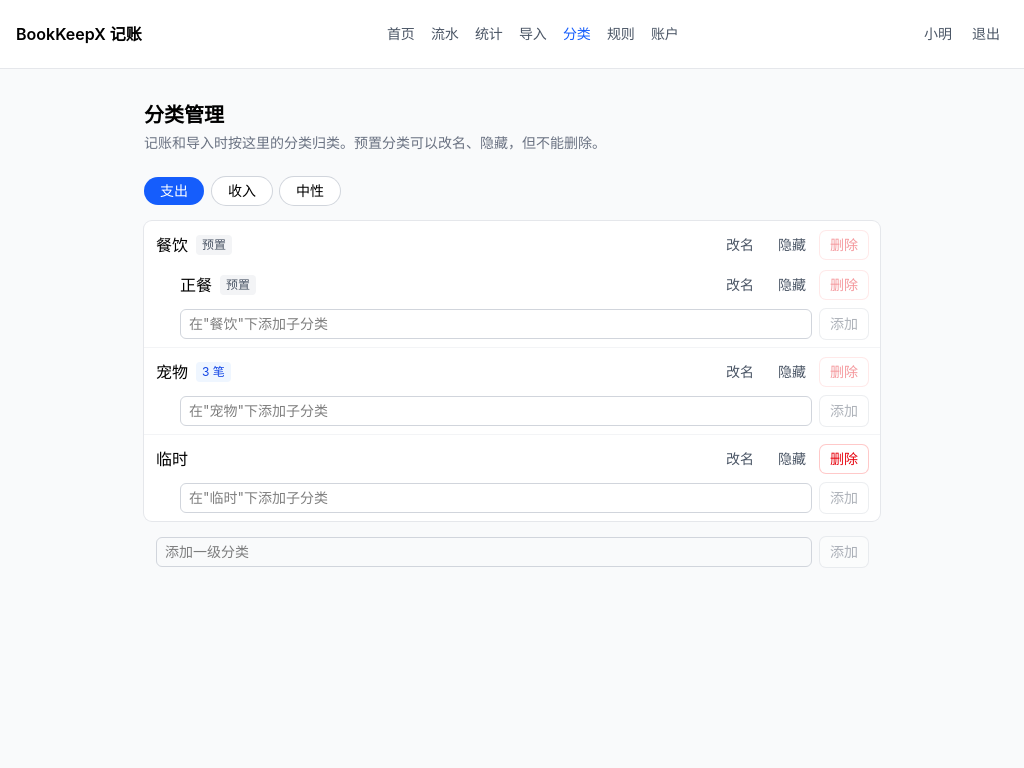
分类管理页 › 反向：改名时重名 → 显示服务端提示，并保持编辑状态（不丢失输入）
Click the button "改名" in the row of "临时" at coordinates (740, 459), box [716,445,764,473]
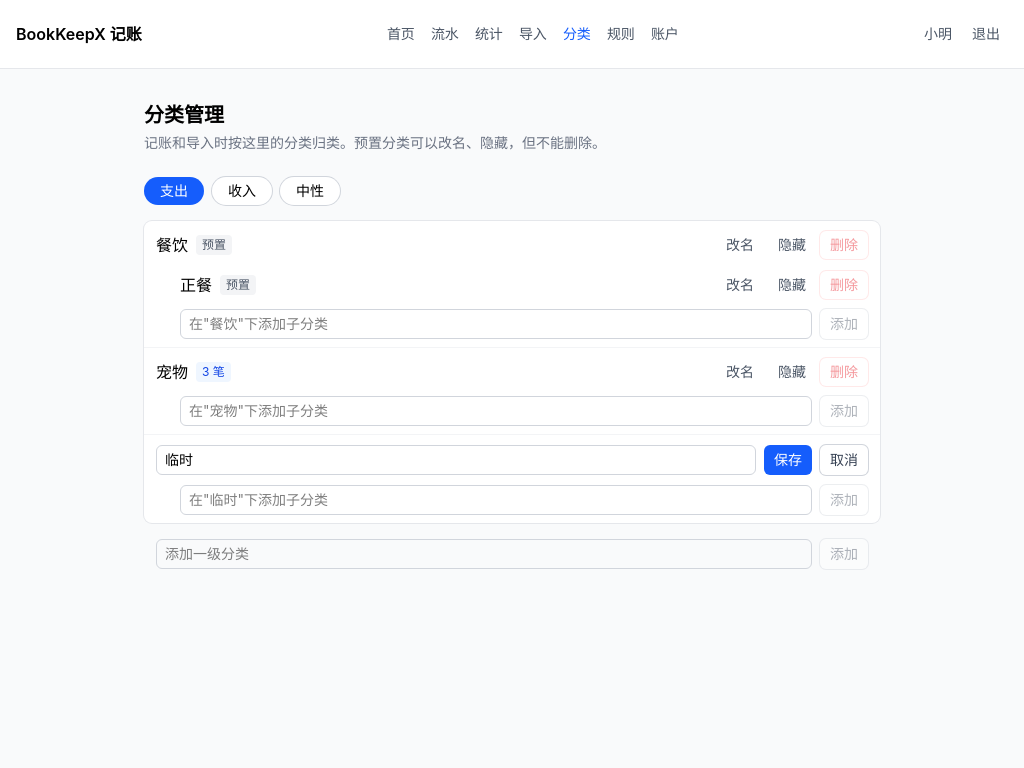
Replace the text in the field named "分类名称" with "餐饮" at coordinates (456, 460), box [156,445,756,475]
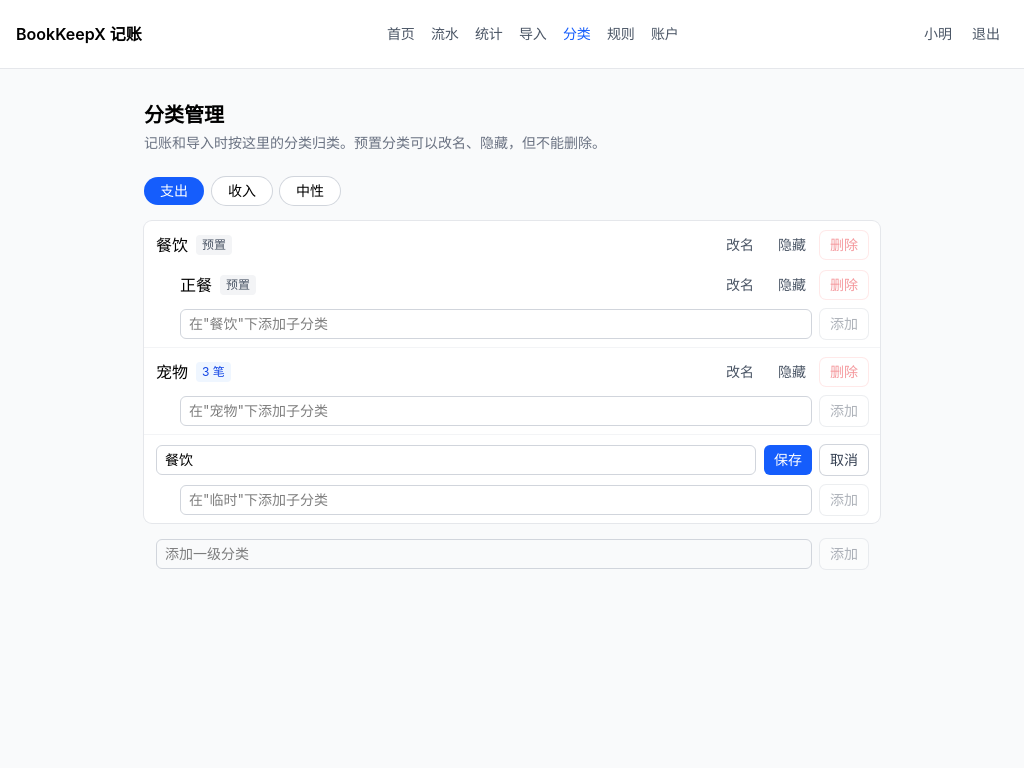
Submit the form named "分类名称", box [156,445,868,475]
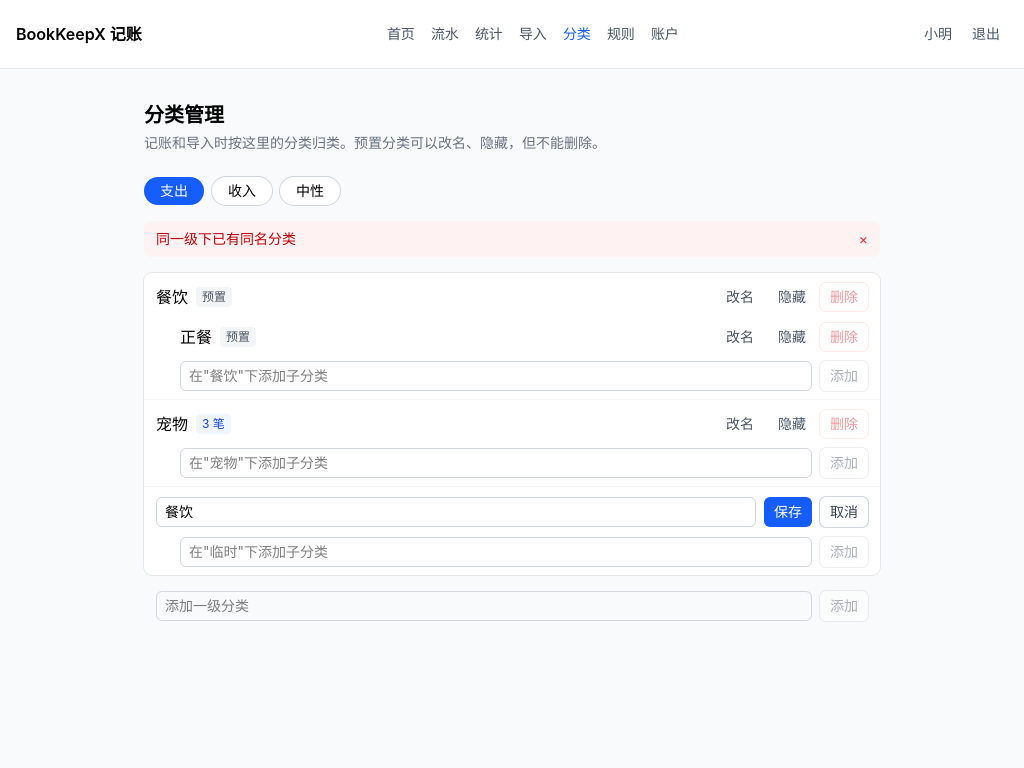
Expected: the message shows "同一级下已有同名分类", [156,230,296,247]
